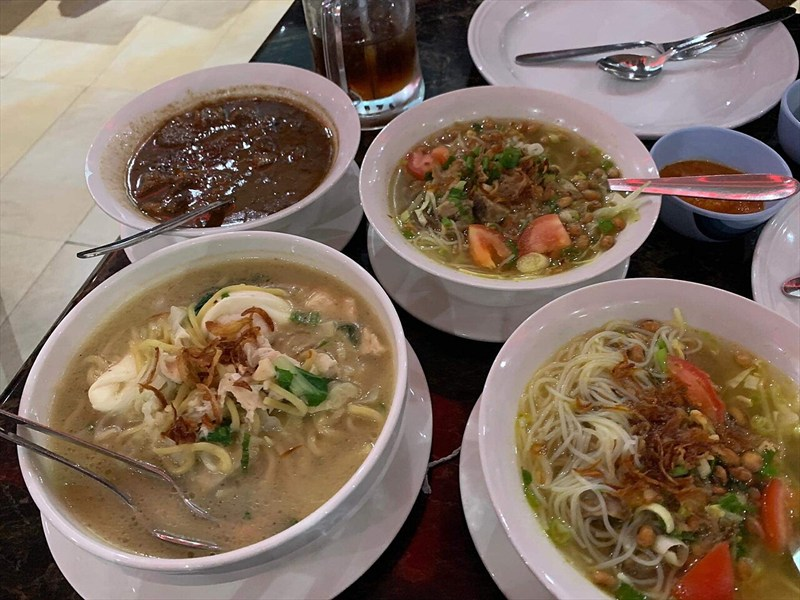Soto Ayam: (62, 49, 763, 551)
